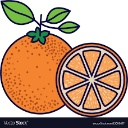orange: (1, 12, 80, 112), (55, 44, 128, 116)
